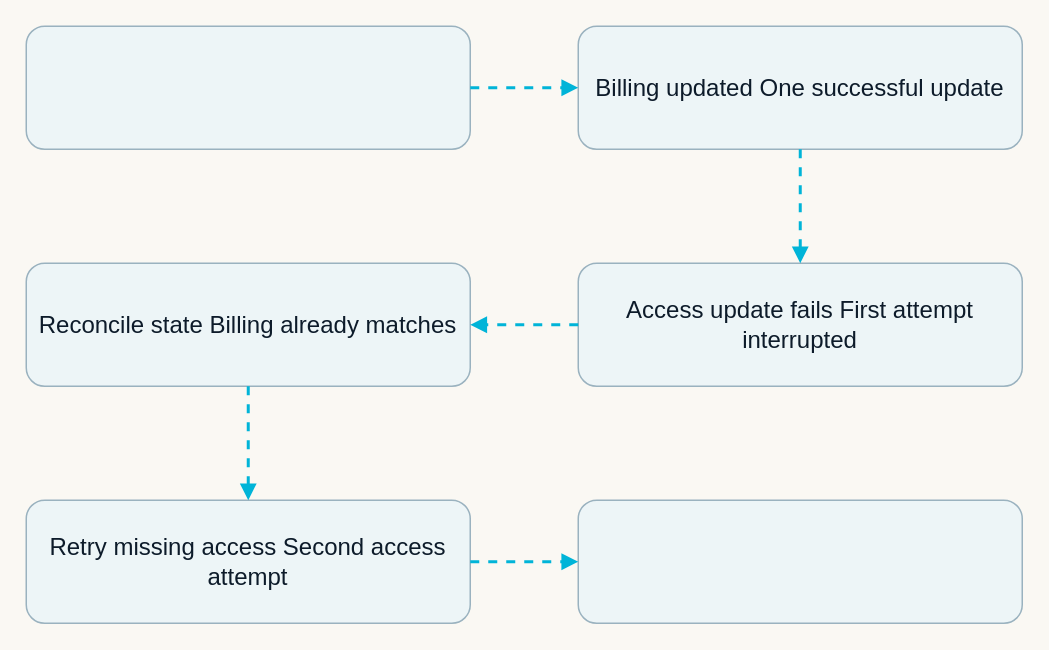
Some shapes in this 1049 by 650 pixel diagram are drawn without their labels. The shapes that lost their labels are listed below. From the top down, each one's box as (x1, y1, x2, y2) in pixels, then its label:
(25, 25, 470, 149): Accepted agreement Effective date reached
(577, 499, 1022, 623): Renewal complete Both outcomes verified
